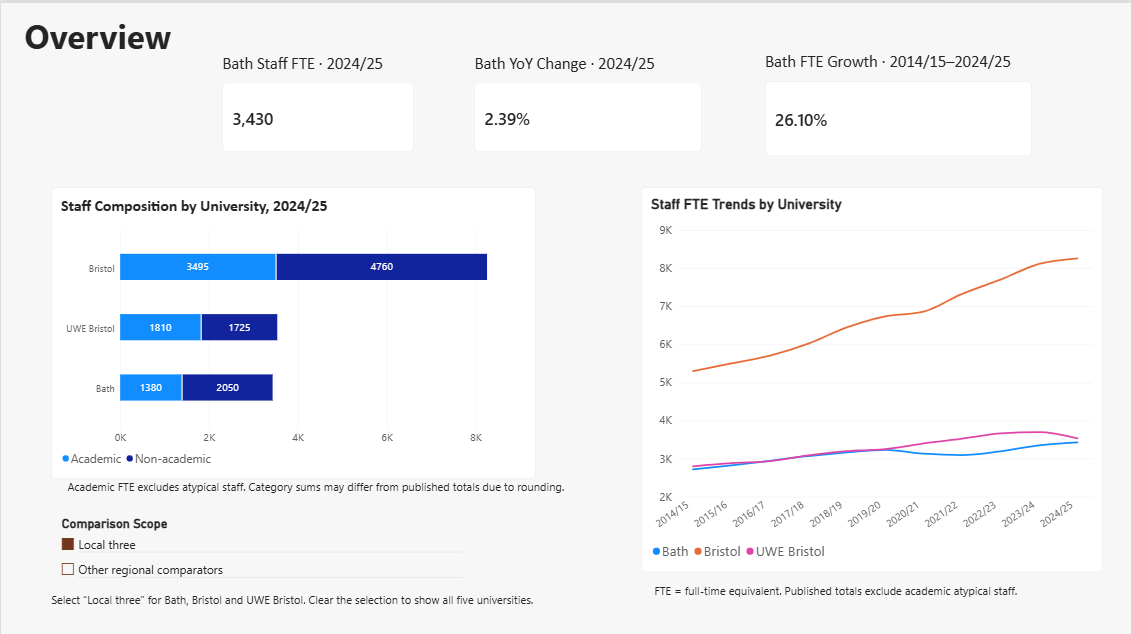

What the dashboard file says about the page in this screenshot:
{"tool":"powerbi","page":{"name":"Workforce Overview","canvas":[1920,1080],"ordinal":0},"visuals":[{"type":"lineChart","title":"Staff FTE Trends by University","fields":{"Category":["DimAcademicYear.academic_year"],"Series":["vw_hesa_selected_providers.provider_short_name"],"Y":["hesa_selected_published_totals.Published Total FTE"]},"box":[1085,312.5,782.5,652.5],"z":0},{"type":"textbox","box":[1107.5,982.5,686,32],"z":1000},{"type":"slicer","fields":{"Values":["vw_hesa_selected_providers.comparison_scope"]},"box":[96,870,687.5,187.5],"z":2000},{"type":"textbox","box":[86,997.5,910,42.5],"z":3000},{"type":"barChart","title":"Staff Composition by University, 2024/25","fields":{"Category":["vw_hesa_selected_providers.provider_short_name"],"Series":["hesa_selected_staff_composition.staff_group"],"Y":["hesa_selected_staff_composition.Staff Group FTE"]},"box":[85,312.5,822,494],"z":4000},{"type":"textbox","box":[112.5,807.5,848.3,63.3],"z":5000},{"type":"cardVisual","title":"Bath Staff FTE · 2024/25","fields":{"Data":["hesa_selected_published_totals.Bath FTE 2024/25"]},"box":[375,85,325,167.5],"z":6000},{"type":"cardVisual","title":"Bath YoY Change · 2024/25","fields":{"Data":["hesa_selected_published_totals.Bath YoY Change %"]},"box":[802.5,85,385,167.5],"z":7000},{"type":"cardVisual","title":"Bath FTE Growth · 2014/15–2024/25","fields":{"Data":["hesa_selected_published_totals.Bath FTE Growth %"]},"box":[1295,82.5,452.5,177.5],"z":8000},{"type":"textbox","box":[40,17.5,472.5,87.5],"z":9000}]}

Visuals, with their boxes in screenshot pixels (x1, y1, x2, y2), scaled from the page's 1920x1080 canvas onto the 1131x634 screenshot:
"Staff FTE Trends by University" lineChart: 639, 183, 1100, 566
textbox: 652, 577, 1056, 596
slicer - vw_hesa_selected_providers.comparison_scope: 57, 511, 462, 621
textbox: 51, 586, 587, 611
"Staff Composition by University, 2024/25" barChart: 50, 183, 534, 473
textbox: 66, 474, 566, 511
"Bath Staff FTE · 2024/25" cardVisual: 221, 50, 412, 148
"Bath YoY Change · 2024/25" cardVisual: 473, 50, 700, 148
"Bath FTE Growth · 2014/15–2024/25" cardVisual: 763, 48, 1029, 153
textbox: 24, 10, 302, 62
